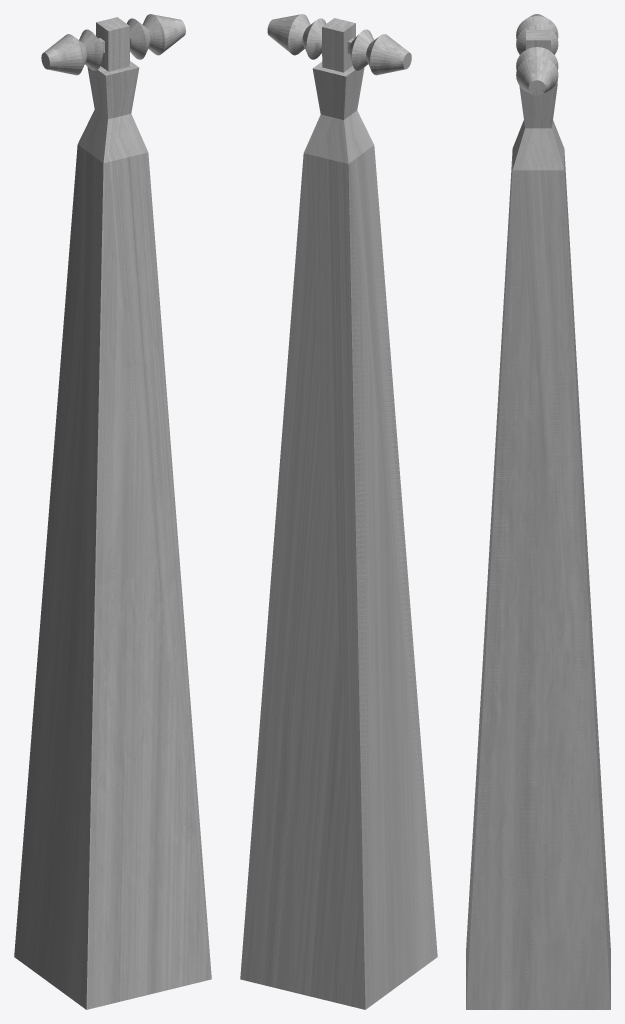
Rendered from ElectricalPost.gltf.
3 renders of one model, left to right at view 1: azimuth 30°, elevation 25°; view 2: azimuth 150°, elevation 25°; view 3: azimuth 270°, elevation 25°, orthographic.
Parts seen in each view (by area): view 1: pylon; view 2: pylon; view 3: pylon.
Boxes of the visible parts, box(x1,y1,x2,y2) form: pylon: box(14, 14, 211, 1009); pylon: box(240, 14, 437, 1009); pylon: box(466, 14, 610, 1009).
Size of the model in its own units: 1.24 by 8.26 by 1.15.
1 material, 1 textured.
